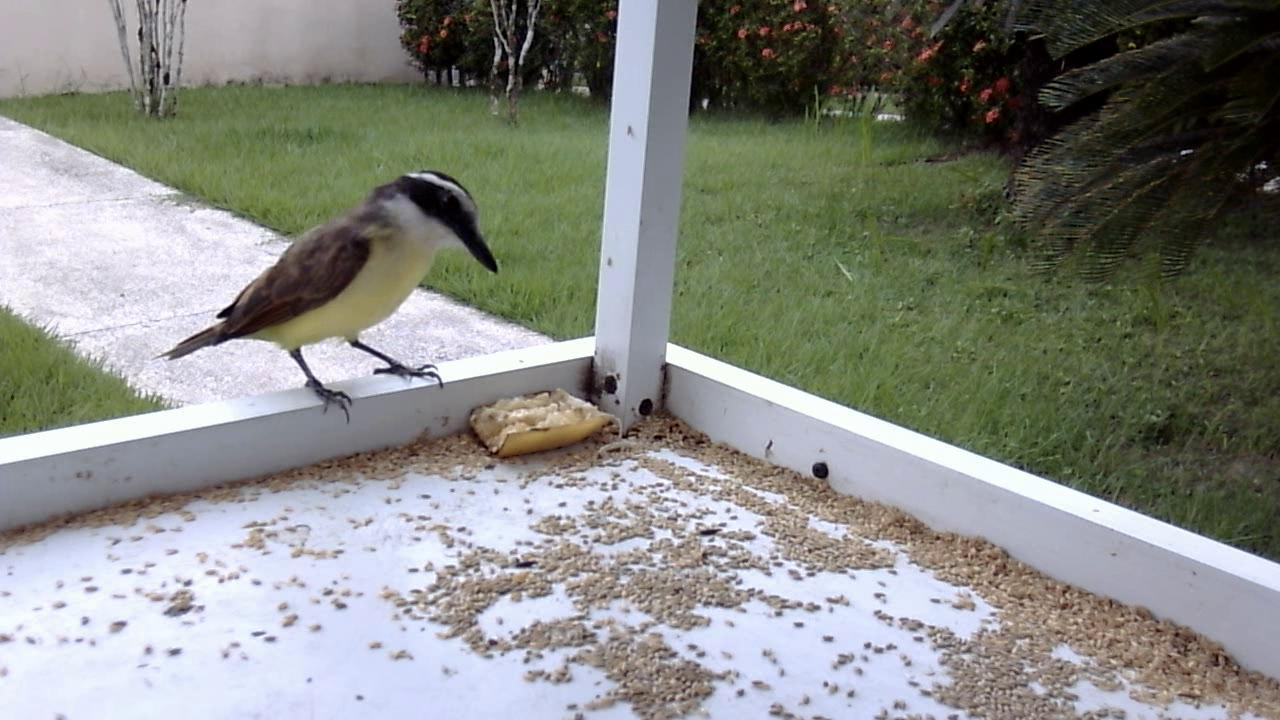bem_te_vi: (151, 160, 501, 434)
